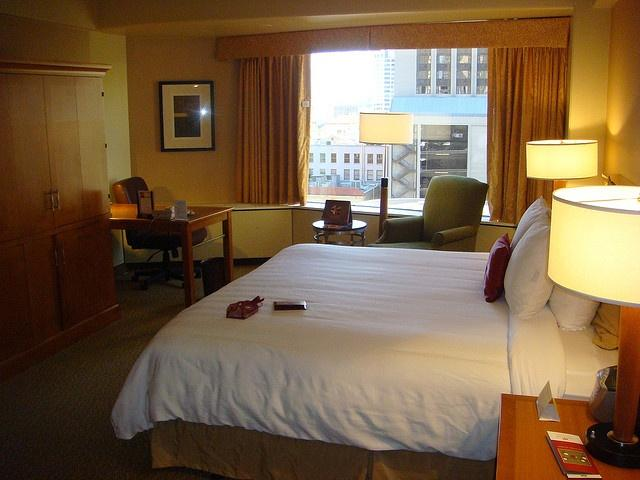Lemari: (0, 56, 121, 379)
Meja: (110, 202, 235, 310)
